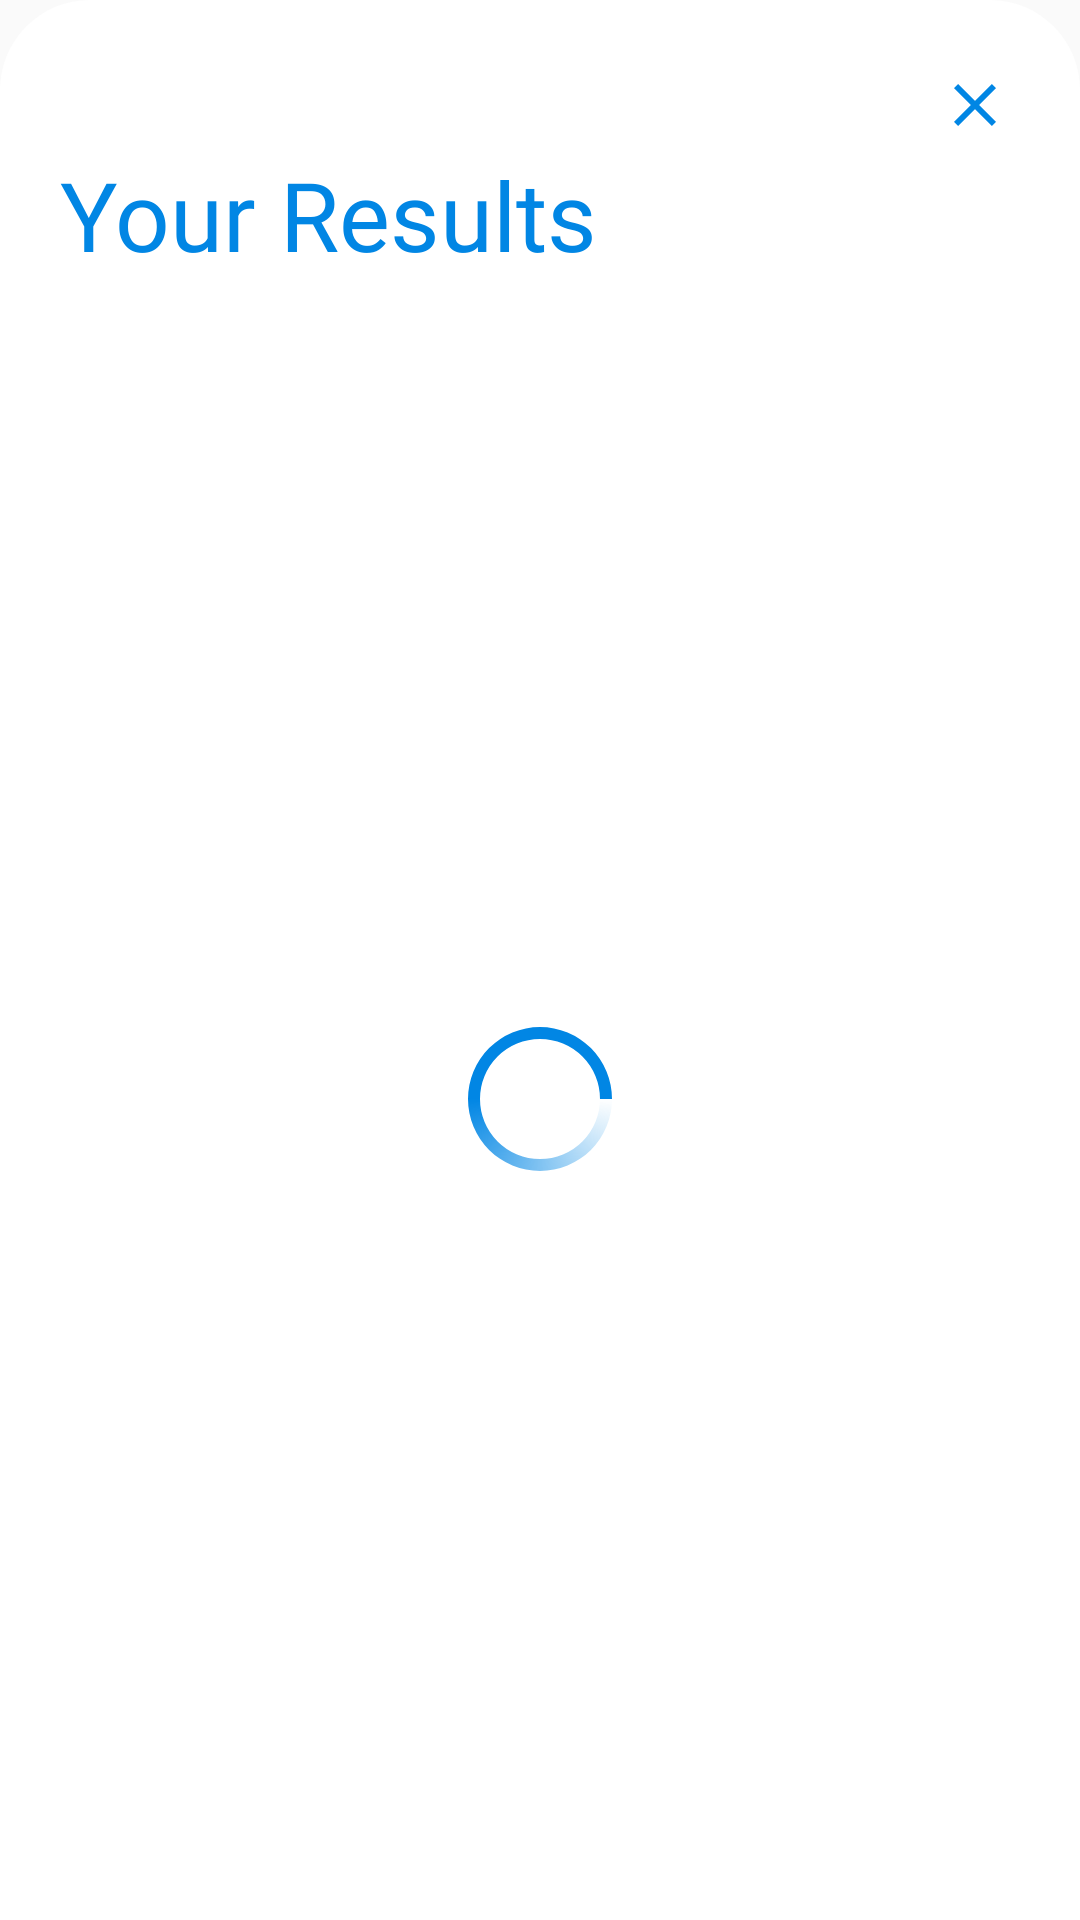

Where to tap for icons on this 1080×1920 app screen, as [x,y]:
close: [975,105]
